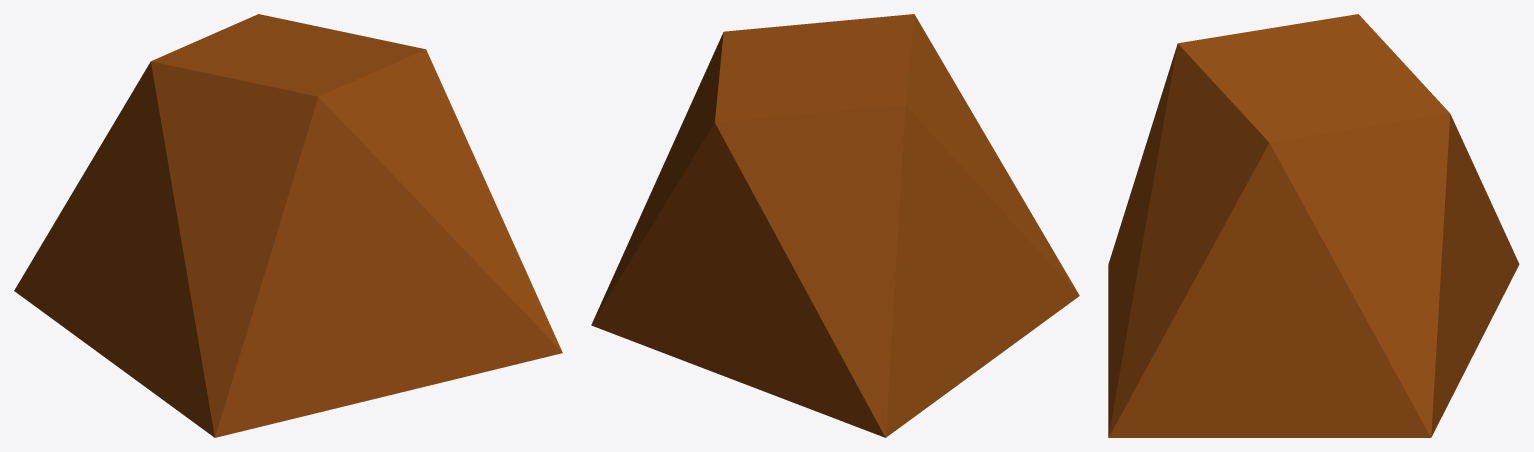
Rendered from Stone_1.fbx.
3 views of the same model, side by side, from view 1: azimuth 30°, elevation 25°; view 2: azimuth 150°, elevation 25°; view 3: azimuth 270°, elevation 25° (orthographic). The views are drawn at different scales.
Parts seen in each view (by area): view 1: Stone_1; view 2: Stone_1; view 3: Stone_1.
Part boxes in pixels (x1,y1,x2,y2): Stone_1: (14, 14, 562, 437); Stone_1: (591, 14, 1079, 437); Stone_1: (1108, 14, 1519, 437).
Size of the model in its own units: 24.19 by 18.8 by 24.19.
